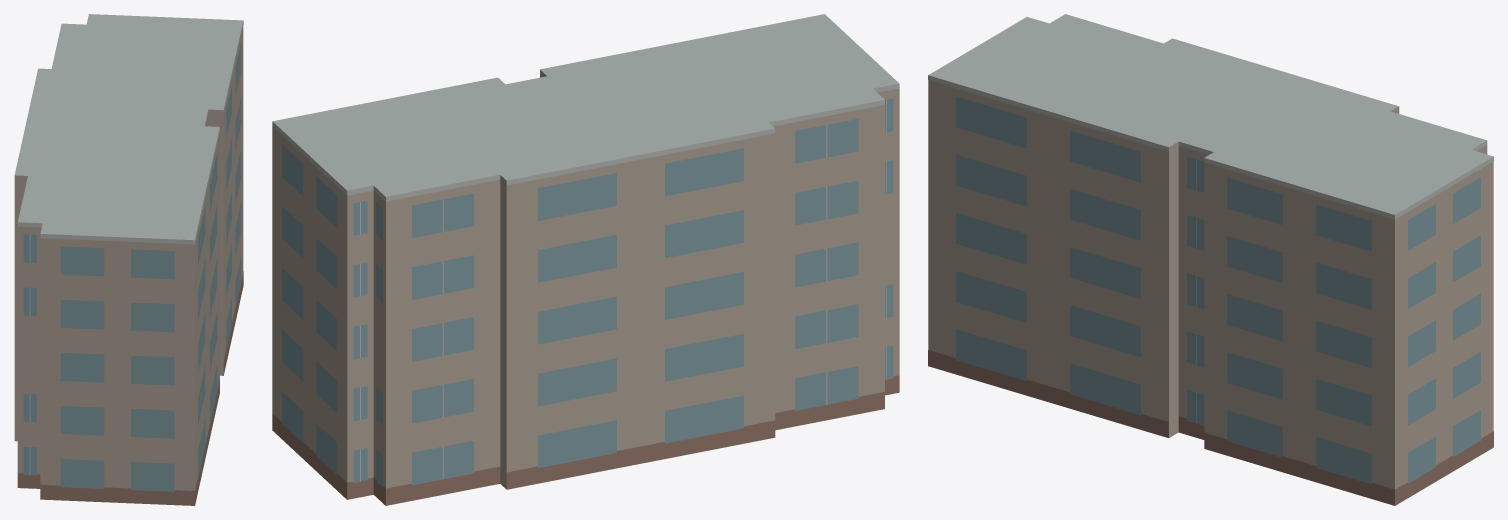
The model's file is survey-upis-32939882.glb.
3 renders of one model, left to right at view 1: azimuth 30°, elevation 25°; view 2: azimuth 150°, elevation 25°; view 3: azimuth 270°, elevation 25°, orthographic. The views are drawn at different scales.
Visible parts, largest first — view 1: survey-upis-32939882.tmp; view 2: survey-upis-32939882.tmp; view 3: survey-upis-32939882.tmp.
Part boxes in pixels (x1,y1,x2,y2): survey-upis-32939882.tmp: (14,14,243,505); survey-upis-32939882.tmp: (272,14,899,505); survey-upis-32939882.tmp: (928,14,1493,505).
Size of the model in its own units: 22.53 by 15.2 by 26.79.
